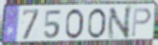5: (43, 9, 63, 40)
7: (22, 8, 41, 42)
N: (106, 5, 134, 41)
O: (86, 8, 107, 40), (64, 8, 85, 40)
P: (131, 7, 153, 38)
